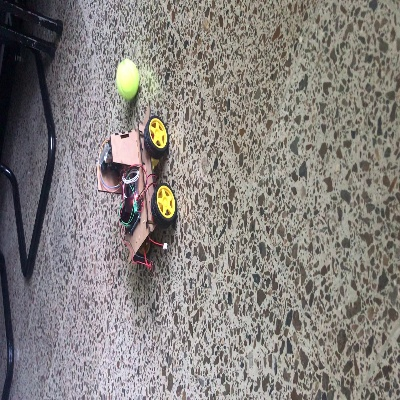Ball: (114, 60, 139, 101)
Robot: (97, 106, 179, 266)
